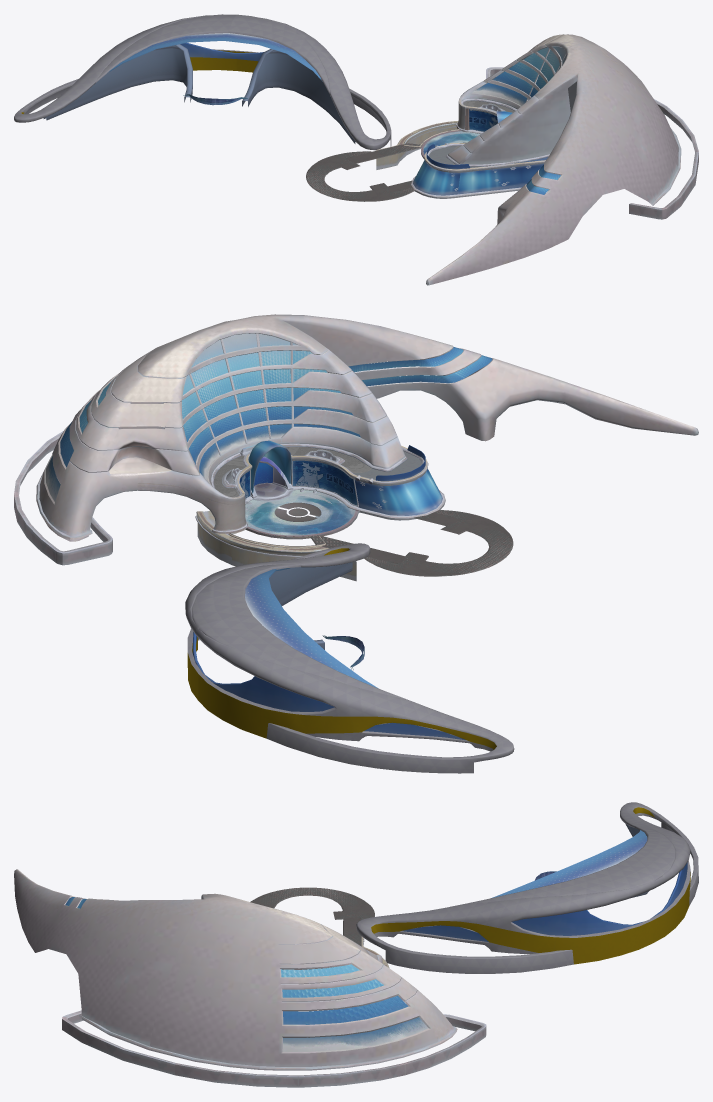
The model's file is pref_sm_beach_bk_winter_pointmol_leftbuild_lv0.fbx.
3 views of the same model, one above another, from view 1: azimuth 30°, elevation 25°; view 2: azimuth 150°, elevation 25°; view 3: azimuth 270°, elevation 25° (orthographic). The views are drawn at different scales.
Visible parts, largest first — view 1: sm_beach_bk_winter_pointmol_leftbuild01a_lv0, sm_beach_bk_winter_pointmol_leftbuild02a_lv0, sm_beach_bk_winter_pointmol_leftbuild02b_lv0, sm_beach_bk_winter_pointmol_leftbuild01b_lv0, sm_beach_winter_pointmol_techborn02_lv0, sm_beach_bk_winter_pointmol_leftbuild02c_lv0, sm_beach_bk_winter_pointmol_leftbuild01f_lv0, sm_beach_bk_winter_pointmol_leftbuild01e_lv0, sm_beach_bk_winter_pointmol_leftbuild01c_lv0; view 2: sm_beach_bk_winter_pointmol_leftbuild01a_lv0, sm_beach_bk_winter_pointmol_leftbuild02a_lv0, sm_beach_bk_winter_pointmol_leftbuild01b_lv0, sm_beach_bk_winter_pointmol_leftbuild02b_lv0, sm_beach_winter_pointmol_techborn02_lv0, sm_beach_bk_winter_pointmol_leftbuild02c_lv0, sm_beach_bk_winter_pointmol_leftbuild01f_lv0, sm_beach_bk_winter_pointmol_leftbuild01e_lv0, sm_beach_bk_winter_pointmol_leftbuild01c_lv0; view 3: sm_beach_bk_winter_pointmol_leftbuild01a_lv0, sm_beach_bk_winter_pointmol_leftbuild02a_lv0, sm_beach_bk_winter_pointmol_leftbuild01b_lv0, sm_beach_bk_winter_pointmol_leftbuild02b_lv0, sm_beach_bk_winter_pointmol_leftbuild02c_lv0, sm_beach_winter_pointmol_techborn02_lv0.
Part boxes in pixels (x1,y1,x2,y2): sm_beach_bk_winter_pointmol_leftbuild01a_lv0: (411,34,698,285); sm_beach_bk_winter_pointmol_leftbuild02a_lv0: (14,14,391,150); sm_beach_bk_winter_pointmol_leftbuild02b_lv0: (21,44,355,143); sm_beach_bk_winter_pointmol_leftbuild01b_lv0: (413,46,566,195); sm_beach_winter_pointmol_techborn02_lv0: (306,100,514,201); sm_beach_bk_winter_pointmol_leftbuild02c_lv0: (108,33,322,105); sm_beach_bk_winter_pointmol_leftbuild01f_lv0: (375,121,459,169); sm_beach_bk_winter_pointmol_leftbuild01e_lv0: (423,131,480,154); sm_beach_bk_winter_pointmol_leftbuild01c_lv0: (469,109,497,131); sm_beach_bk_winter_pointmol_leftbuild01a_lv0: (14,314,698,565); sm_beach_bk_winter_pointmol_leftbuild02a_lv0: (185,543,514,773); sm_beach_bk_winter_pointmol_leftbuild01b_lv0: (46,333,492,515); sm_beach_bk_winter_pointmol_leftbuild02b_lv0: (187,548,496,749); sm_beach_winter_pointmol_techborn02_lv0: (214,447,513,576); sm_beach_bk_winter_pointmol_leftbuild02c_lv0: (192,568,465,740); sm_beach_bk_winter_pointmol_leftbuild01f_lv0: (195,510,356,581); sm_beach_bk_winter_pointmol_leftbuild01e_lv0: (245,490,355,535); sm_beach_bk_winter_pointmol_leftbuild01c_lv0: (239,460,357,505); sm_beach_bk_winter_pointmol_leftbuild01a_lv0: (14,869,486,1087); sm_beach_bk_winter_pointmol_leftbuild02a_lv0: (356,802,698,973); sm_beach_bk_winter_pointmol_leftbuild01b_lv0: (65,897,428,1051); sm_beach_bk_winter_pointmol_leftbuild02b_lv0: (371,807,690,964); sm_beach_bk_winter_pointmol_leftbuild02c_lv0: (401,830,687,941); sm_beach_winter_pointmol_techborn02_lv0: (250,887,374,946).
Bounding box in the file's own units: 85.69 × 19.41 × 90.3.
